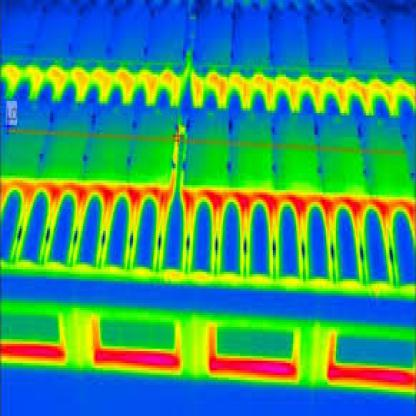Defects: (209, 353, 296, 382), (209, 190, 232, 226), (182, 187, 194, 219)
